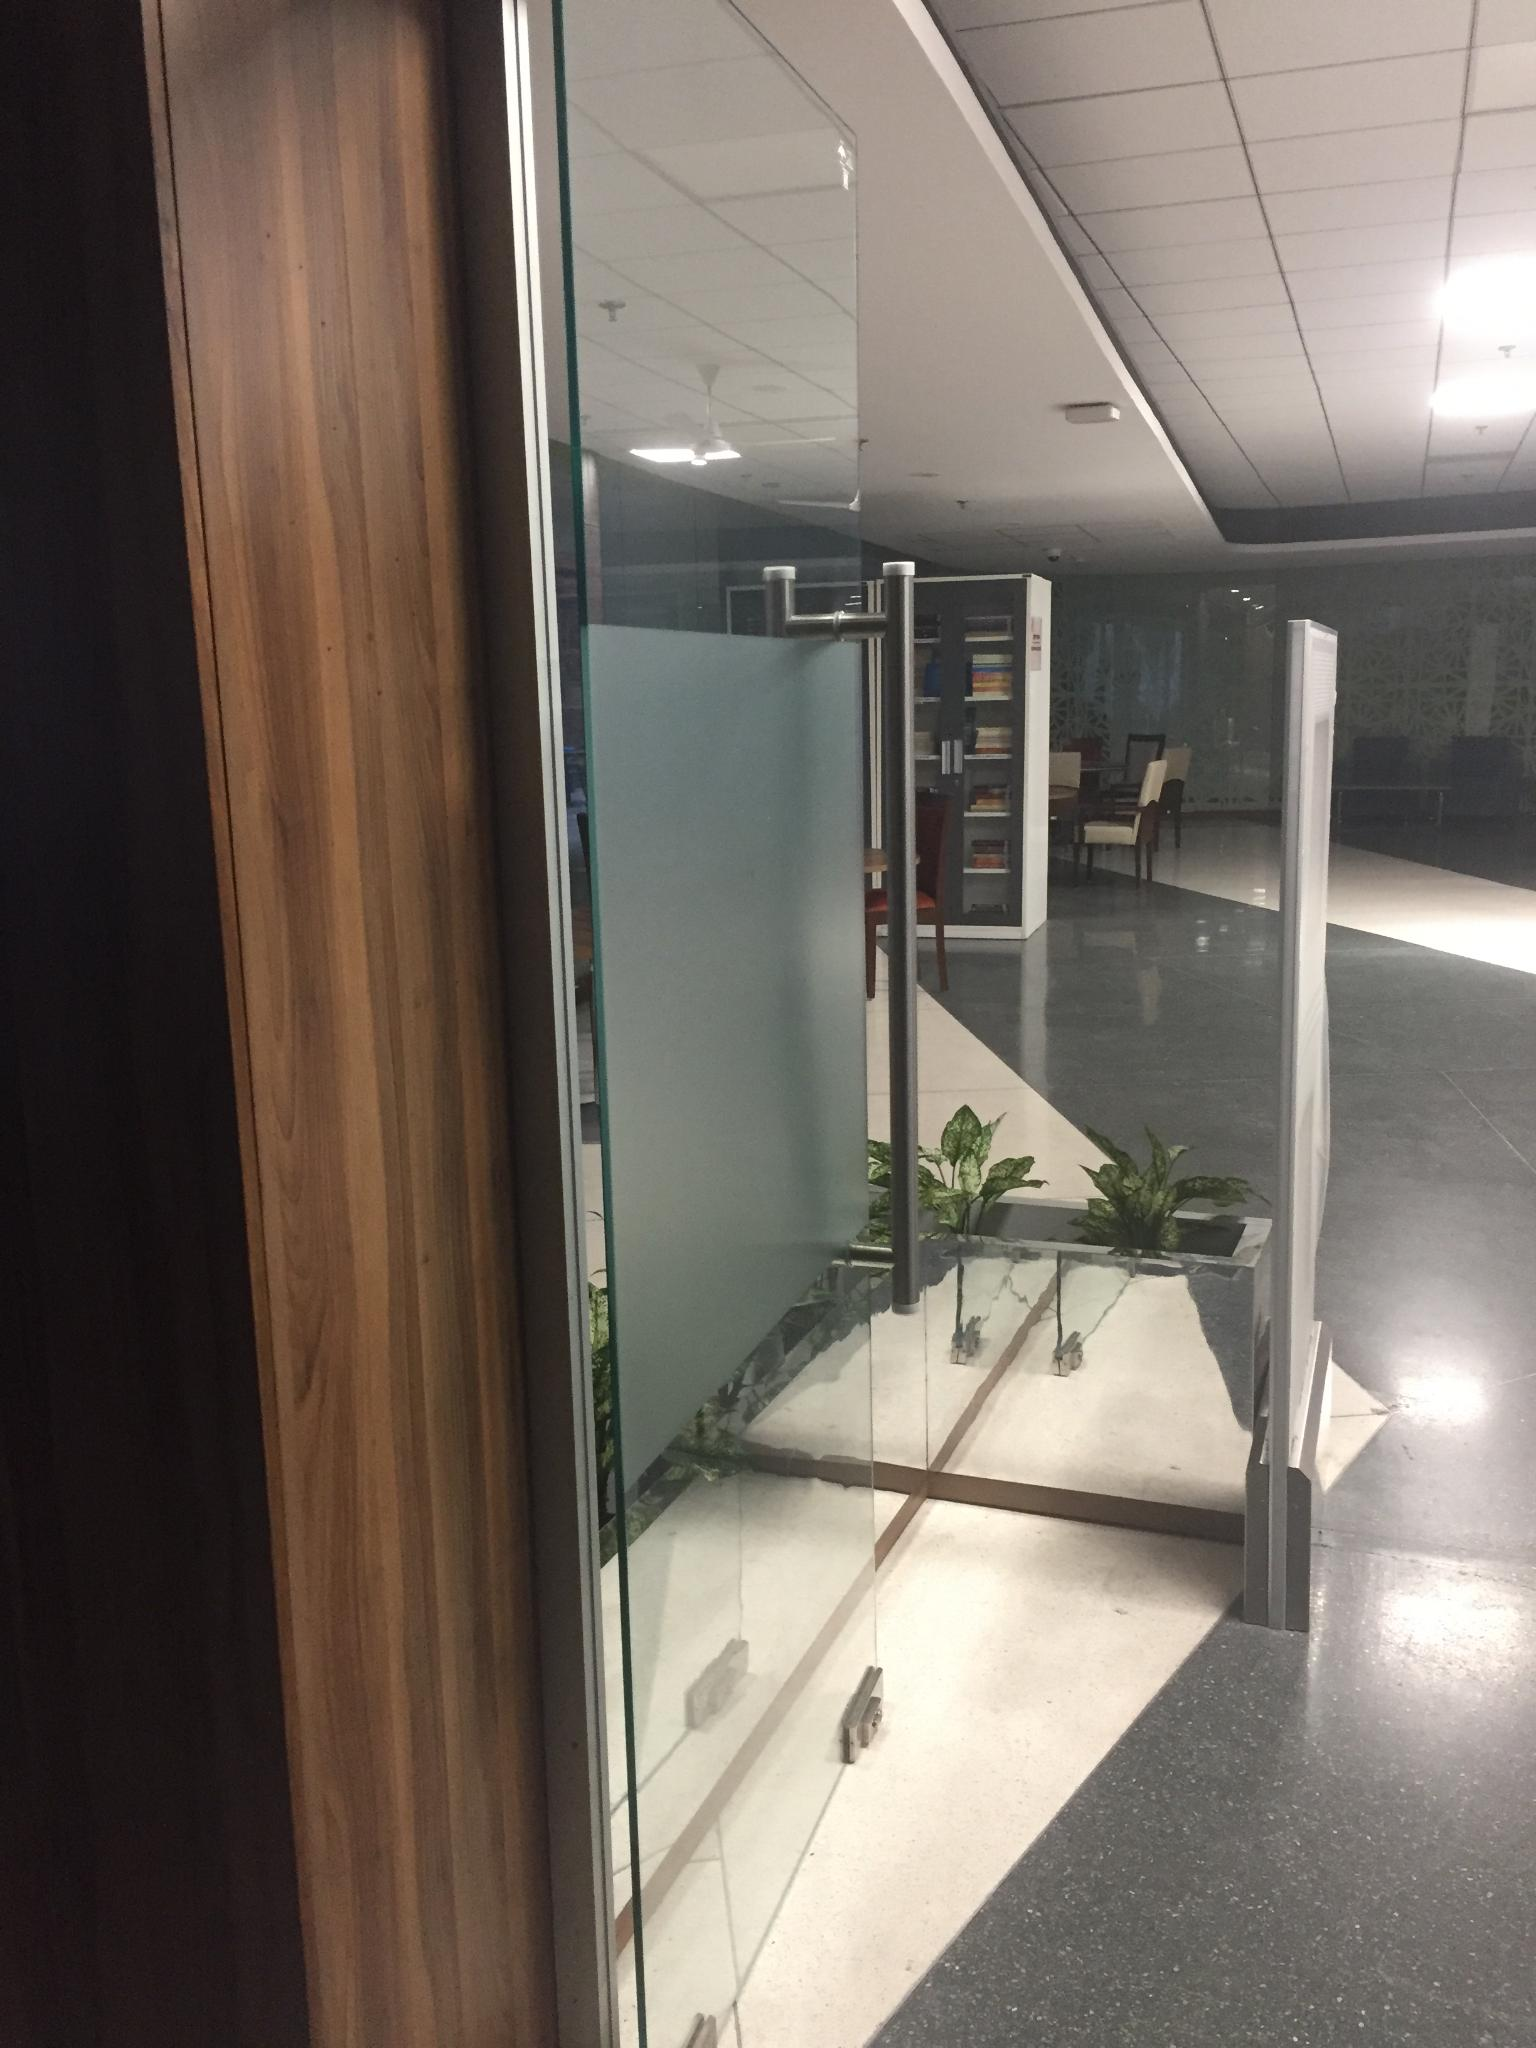chair: (865, 792, 952, 997), (1073, 764, 1173, 914), (1054, 735, 1112, 839), (1126, 732, 1168, 827), (1163, 742, 1194, 835)
